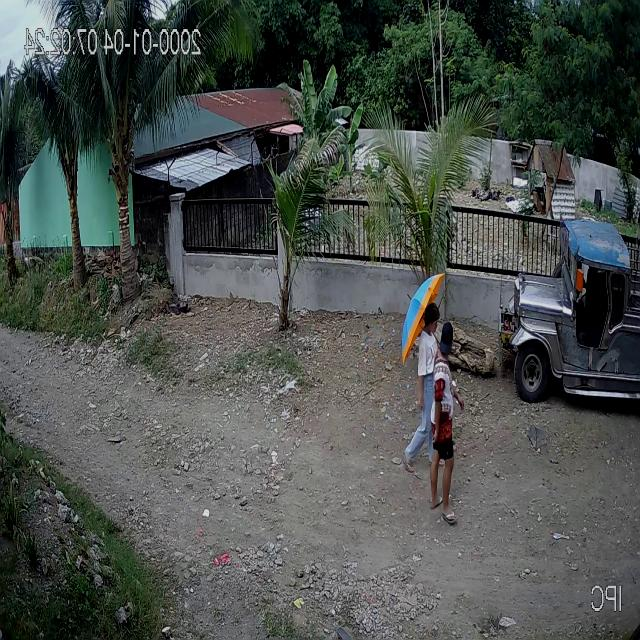walking: (398, 270, 447, 478), (425, 320, 467, 530)
